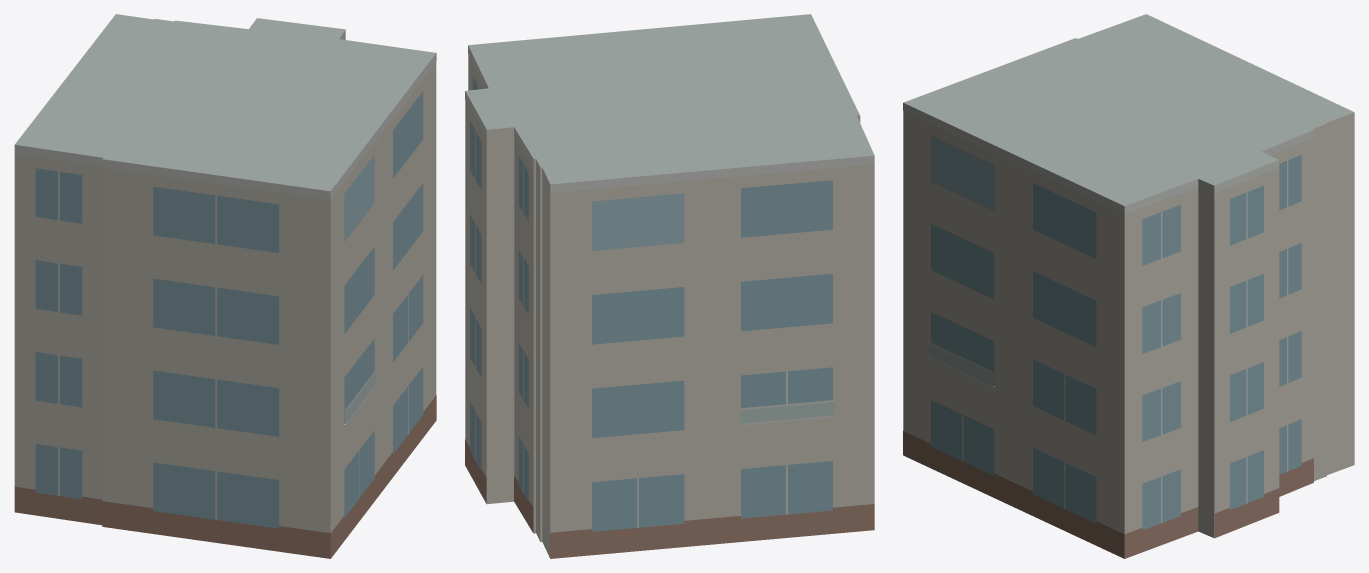
File: survey-upis-32658139.glb
3 renders of one model, left to right at view 1: azimuth 30°, elevation 25°; view 2: azimuth 150°, elevation 25°; view 3: azimuth 270°, elevation 25°, orthographic. The views are drawn at different scales.
Parts seen in each view (by area): view 1: survey-upis-32658139.tmp; view 2: survey-upis-32658139.tmp; view 3: survey-upis-32658139.tmp.
Boxes of the visible parts, x1,y1,x2,y2 form: survey-upis-32658139.tmp: (14, 14, 436, 558); survey-upis-32658139.tmp: (465, 14, 874, 558); survey-upis-32658139.tmp: (903, 14, 1354, 558).
Bounding box in the file's own units: 12.39 × 10.6 × 12.31.
